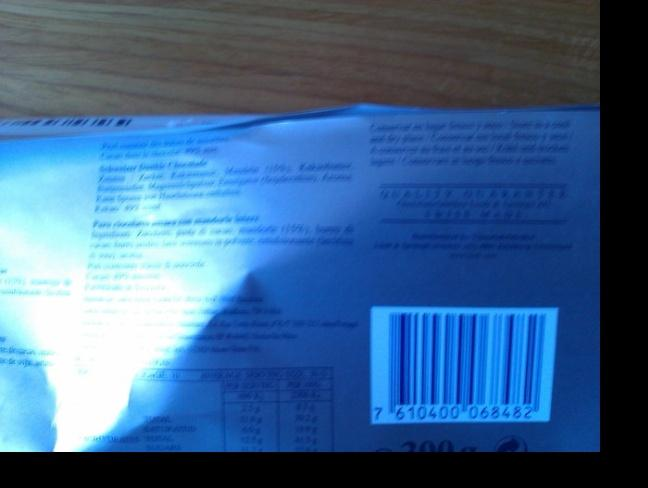Barcode: (371, 307, 558, 424)
